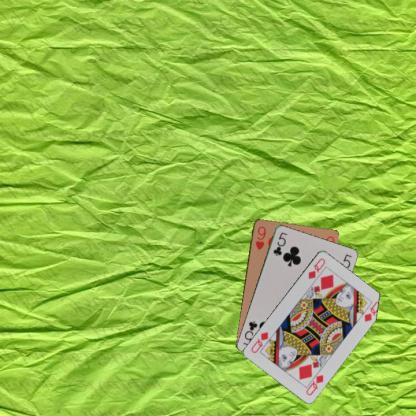5c: (270, 229, 288, 257)
9h: (253, 223, 267, 251)
Qd: (303, 367, 325, 396), (306, 256, 326, 280)
